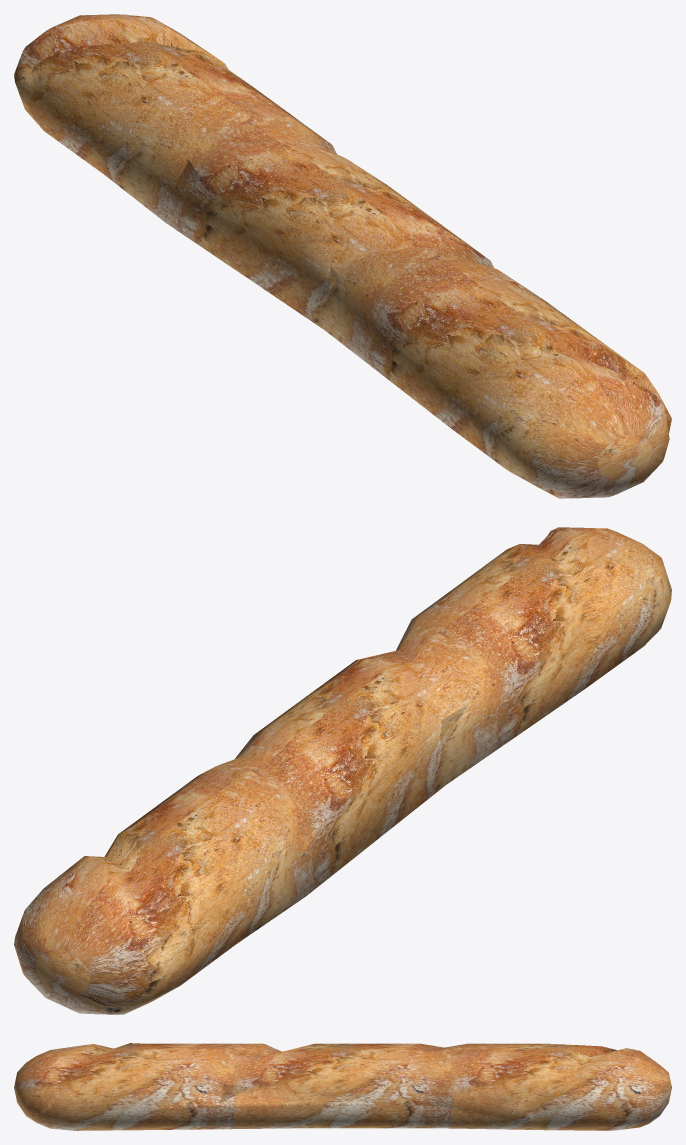
Rendered from Baguette.fbx.
3 renders of one model, top to bottom at view 1: azimuth 30°, elevation 25°; view 2: azimuth 150°, elevation 25°; view 3: azimuth 270°, elevation 25°, orthographic. The views are drawn at different scales.
Parts seen in each view (by area): view 1: OilTank001; view 2: OilTank001; view 3: OilTank001.
Part boxes in pixels (x1,y1,x2,y2): OilTank001: [14, 14, 671, 498]; OilTank001: [14, 527, 671, 1014]; OilTank001: [14, 1043, 671, 1130].
Bounding box in the file's own units: 1.9 × 1.49 × 11.81.
Materials: 1 (1 with a texture image).
